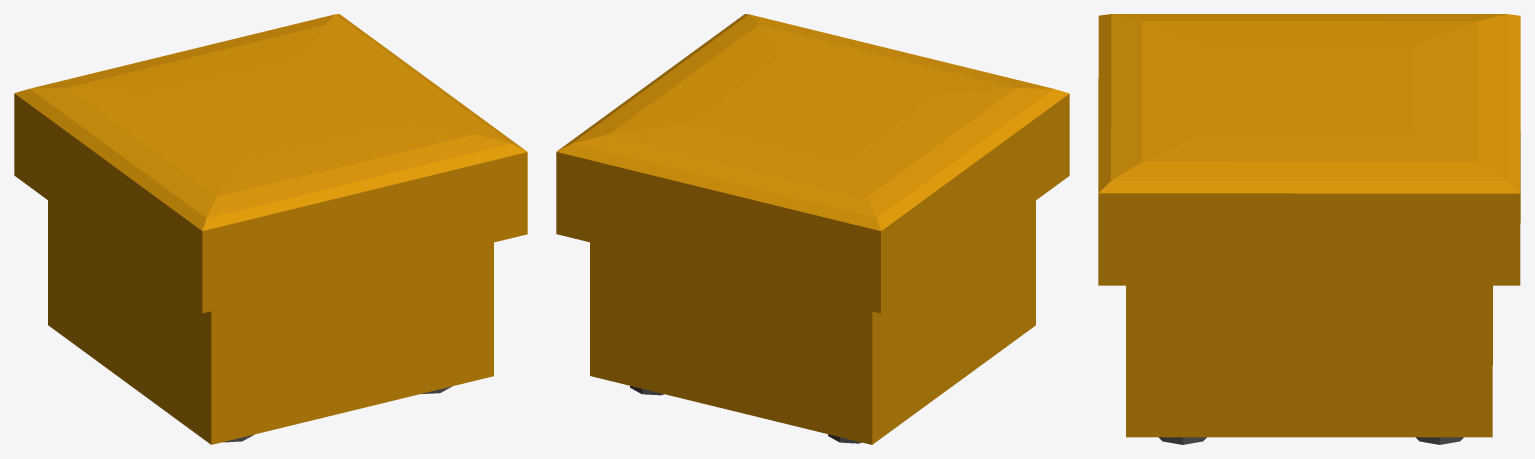
Rendered from puffy_visual_orange.dae.
The picture shows the model from 3 angles, left to right: view 1: azimuth 30°, elevation 25°; view 2: azimuth 150°, elevation 25°; view 3: azimuth 270°, elevation 25°; orthographic projection. The views are drawn at different scales.
Parts seen in each view (by area): view 1: Circle; view 2: Circle; view 3: Circle.
Part boxes in pixels (left/top/right/bottom): Circle: left=14, top=14, right=527, bottom=444; Circle: left=556, top=14, right=1069, bottom=444; Circle: left=1098, top=14, right=1520, bottom=444.
Size of the model in its own units: 50.51 by 50.7 by 38.24.
